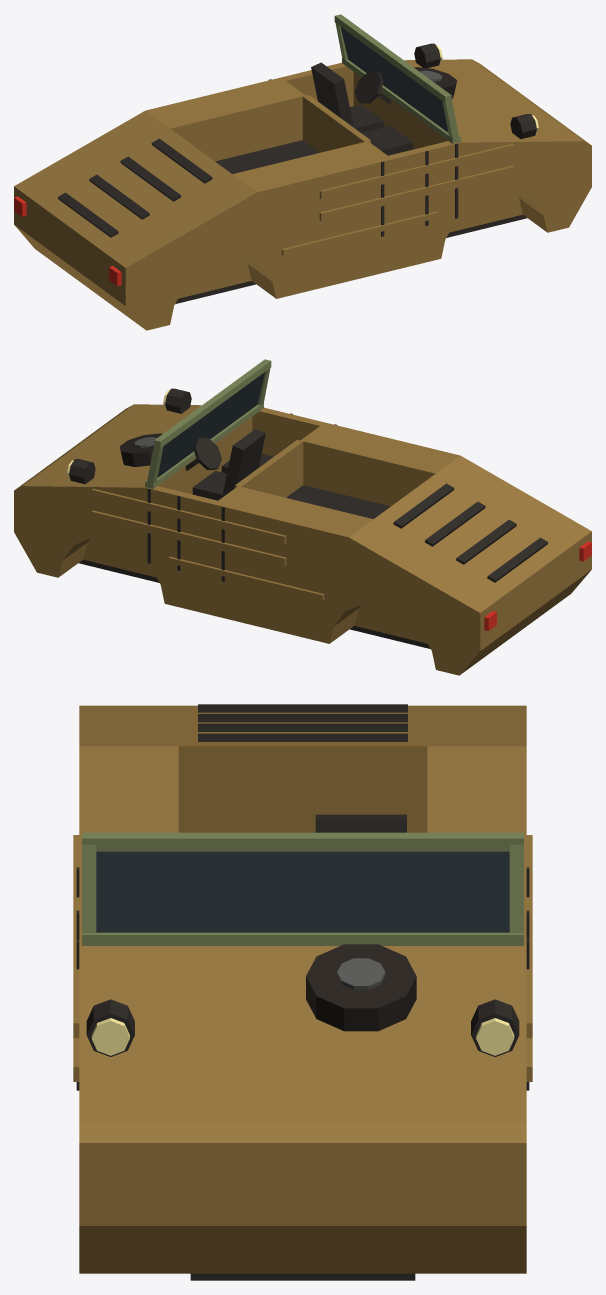
File: base_jeep.glb
The picture shows the model from 3 angles, top to bottom: view 1: azimuth 30°, elevation 25°; view 2: azimuth 150°, elevation 25°; view 3: azimuth 270°, elevation 25°; orthographic projection. The views are drawn at different scales.
Parts seen in each view (by area): view 1: base_jeep; view 2: base_jeep; view 3: base_jeep.
Boxes of the visible parts, <box> form: base_jeep: <box>14,14,591,330</box>; base_jeep: <box>14,359,591,675</box>; base_jeep: <box>73,704,532,1280</box>.
Bounding box in the file's own units: 4.51 × 1.54 × 1.91.
